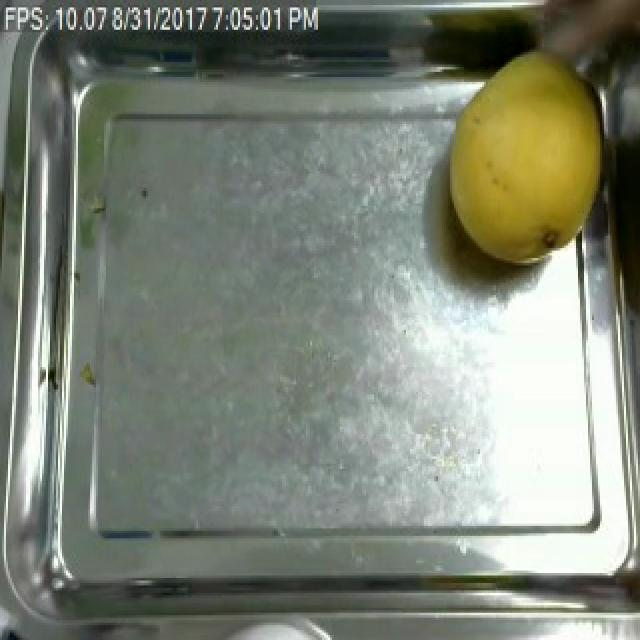fruit: (436, 42, 618, 278)
